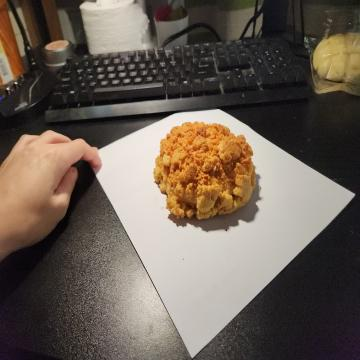soboru_bread: (152, 117, 258, 221)
